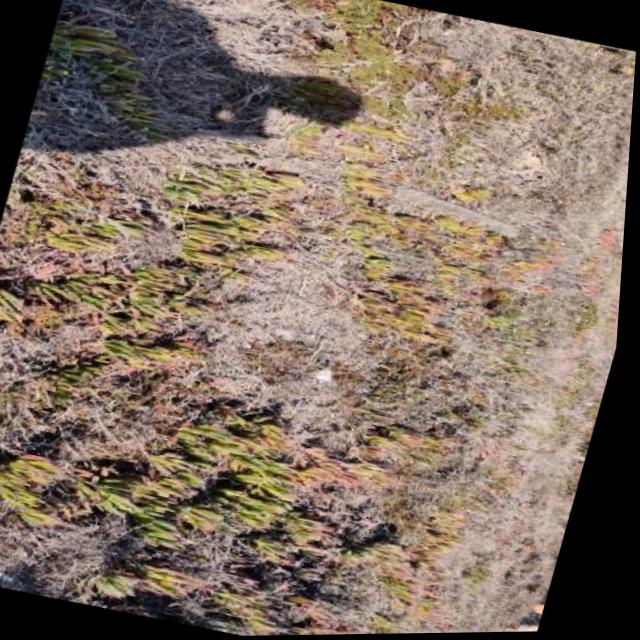glass: (308, 353, 337, 385)
